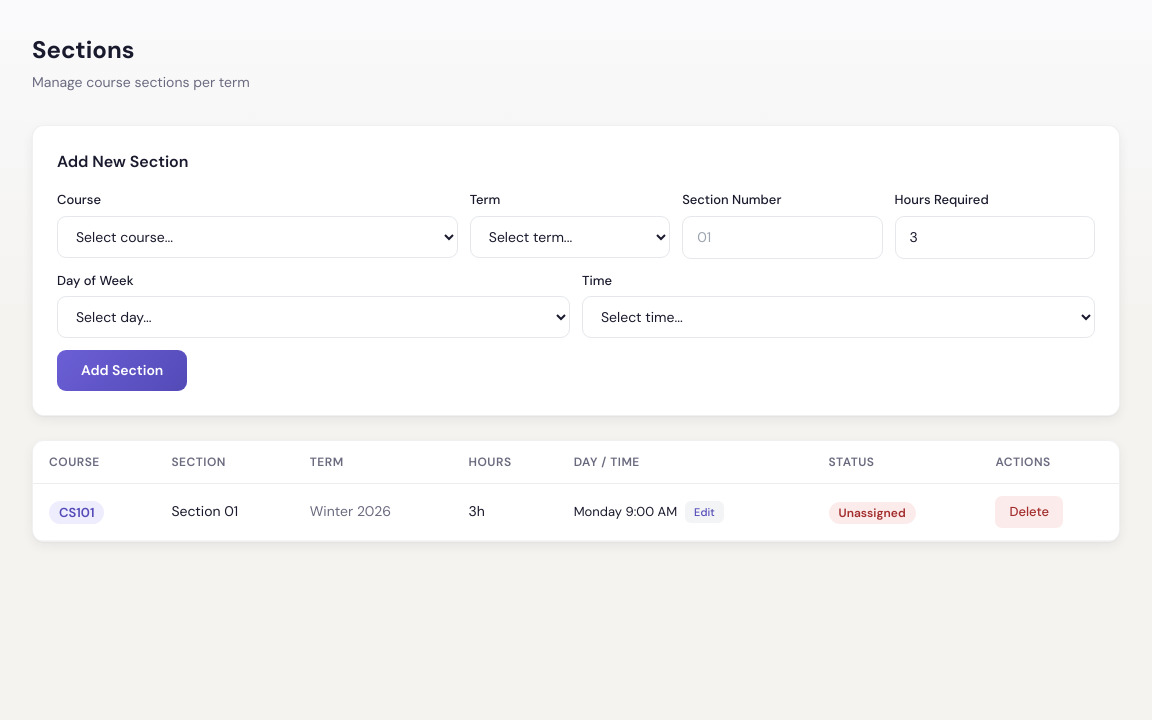
it: AdminSections › edits a section's day/time in place
Click the button "Edit".
click(704, 512)  # box [685,500,724,523]
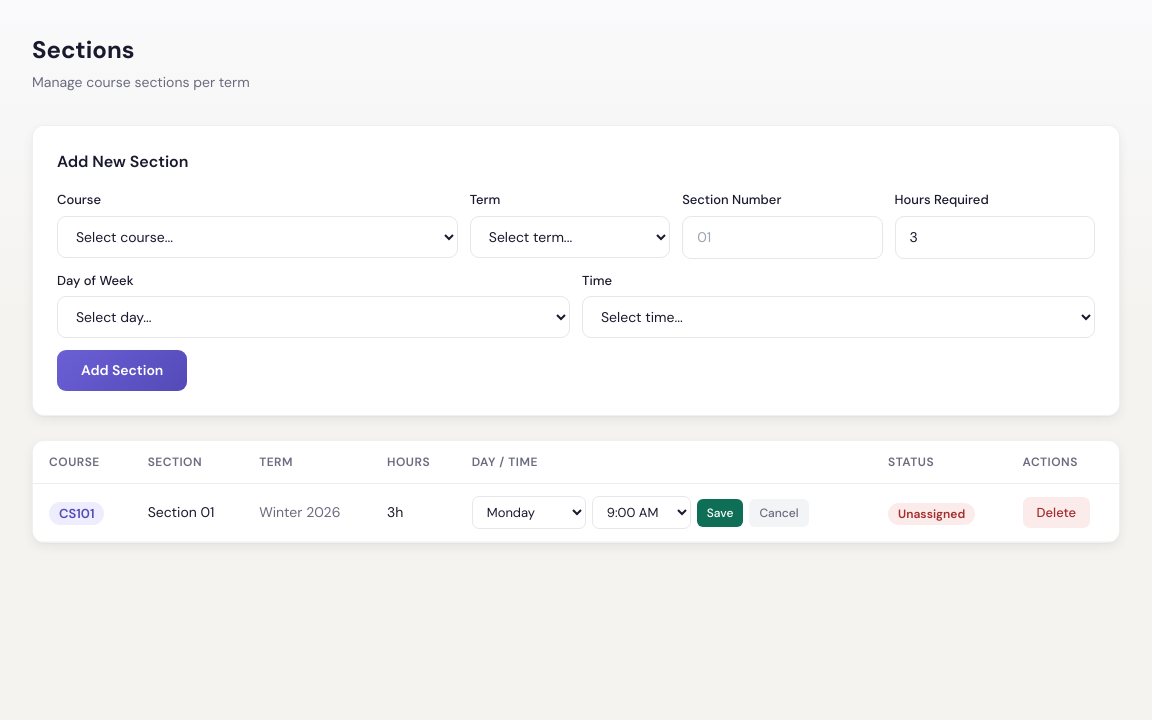
Select "Wednesday" in the dropdown named "Day" at x=529, y=512, box [472,496,586,529]
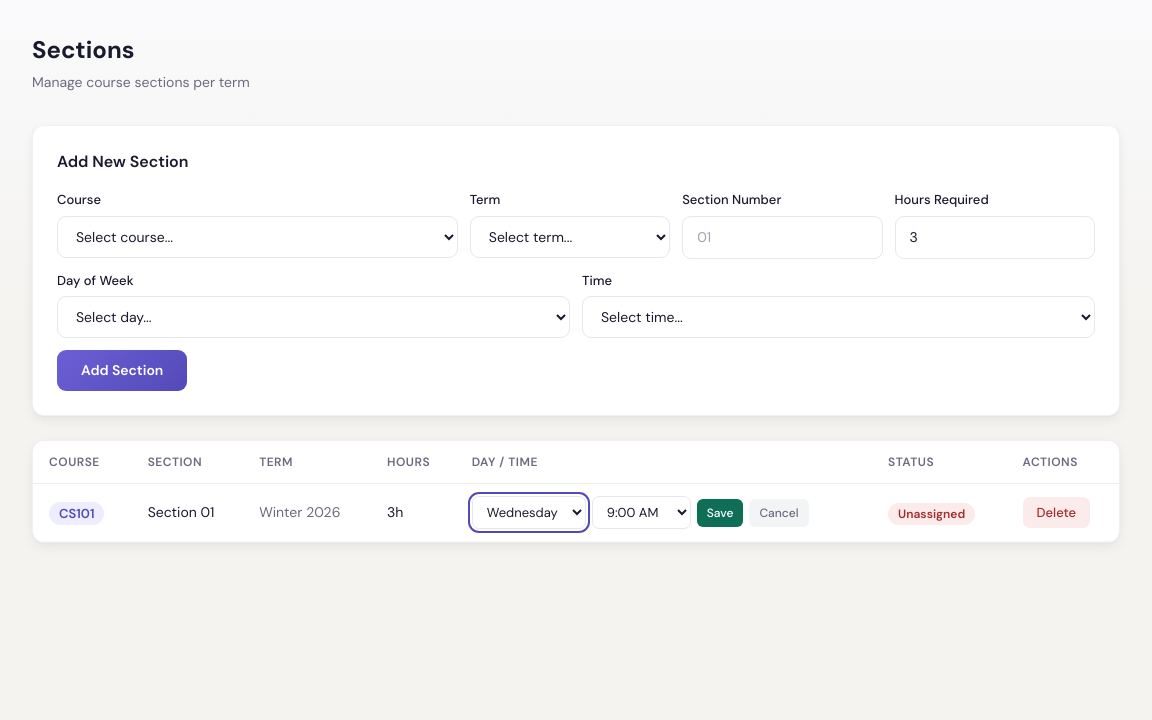
Select "1:00 PM" in the dropdown named "Time" at x=641, y=512, box [592,496,691,529]
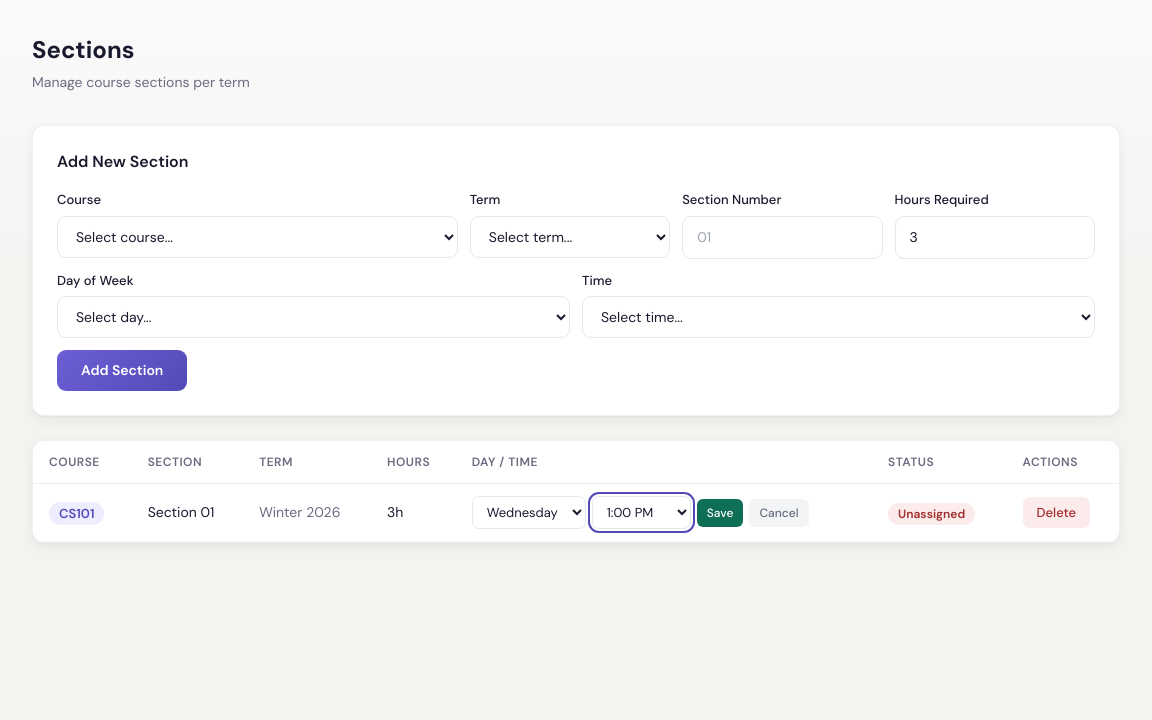
Click the button "Save".
click(720, 512)  # box [697,498,743,526]
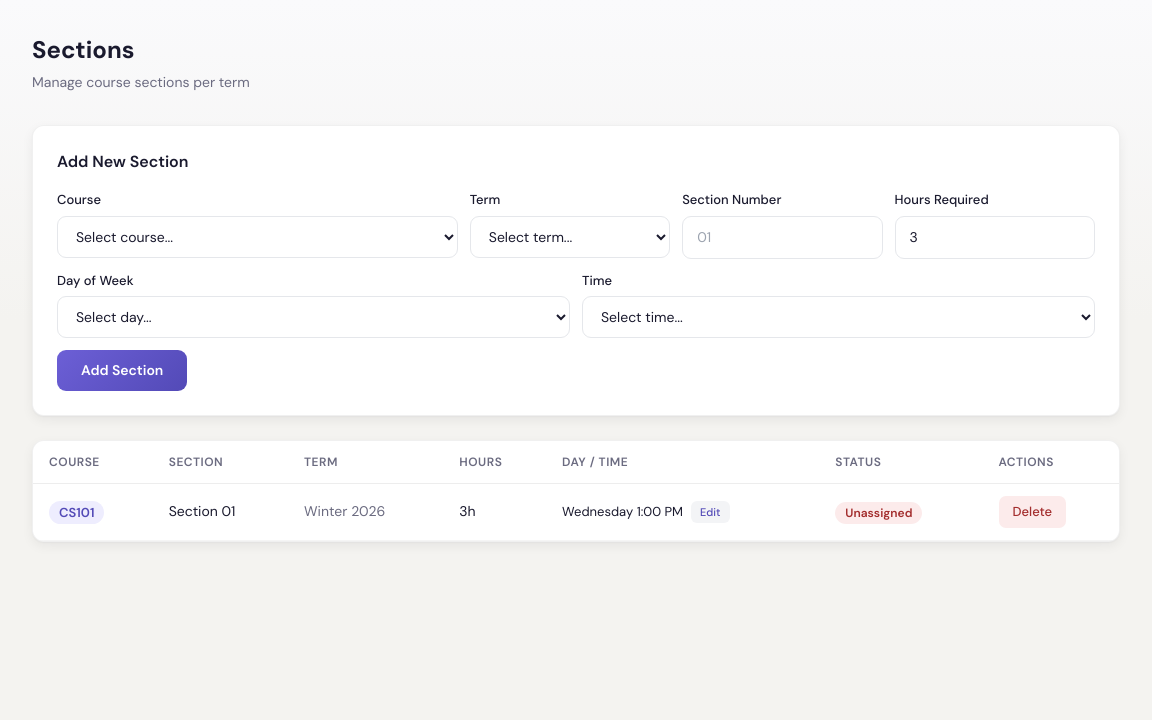
Result: the text "Wednesday 1:00 PM" is shown at [562,502,683,522]
